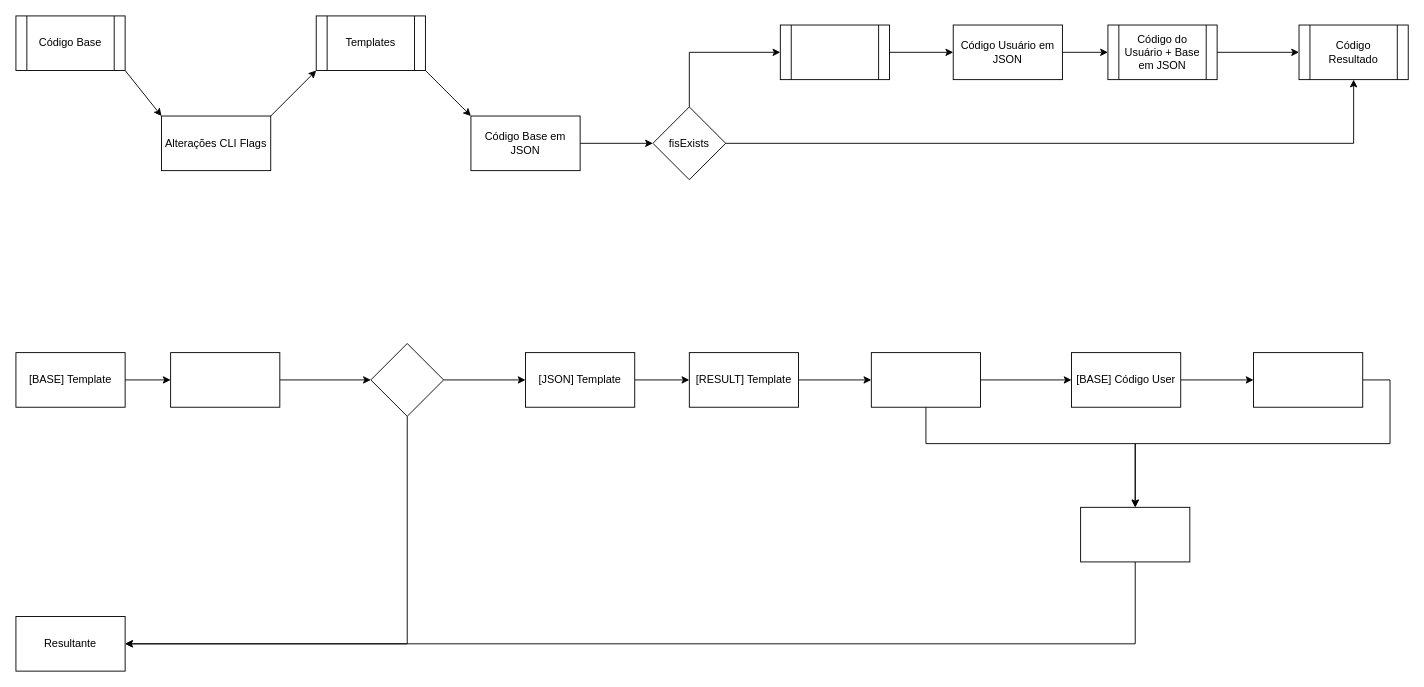
The diagram is 1424 pixels wide and 687 high, and some of its shapes have lost their labels. The shapes that lost their labels are listed below. From the top down, each one's centre as x and y in pixels, then its label:
(834,52): Código do Usuário
(225,379): [ALT CLI] Template
(407,379): isExists
(925,379): [JSON] Template RESULT
(1308,379): [JSON] Código User
(1135,534): [JSON] Código User + Template
